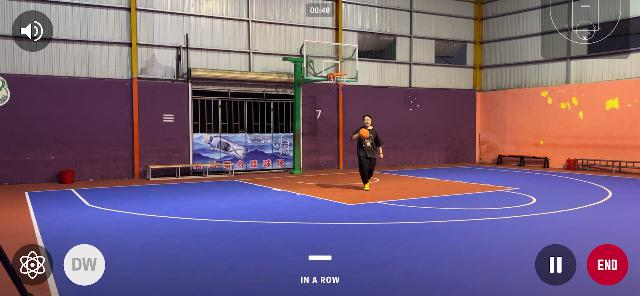ball: (358, 127, 369, 139)
basket: (327, 72, 347, 88)
